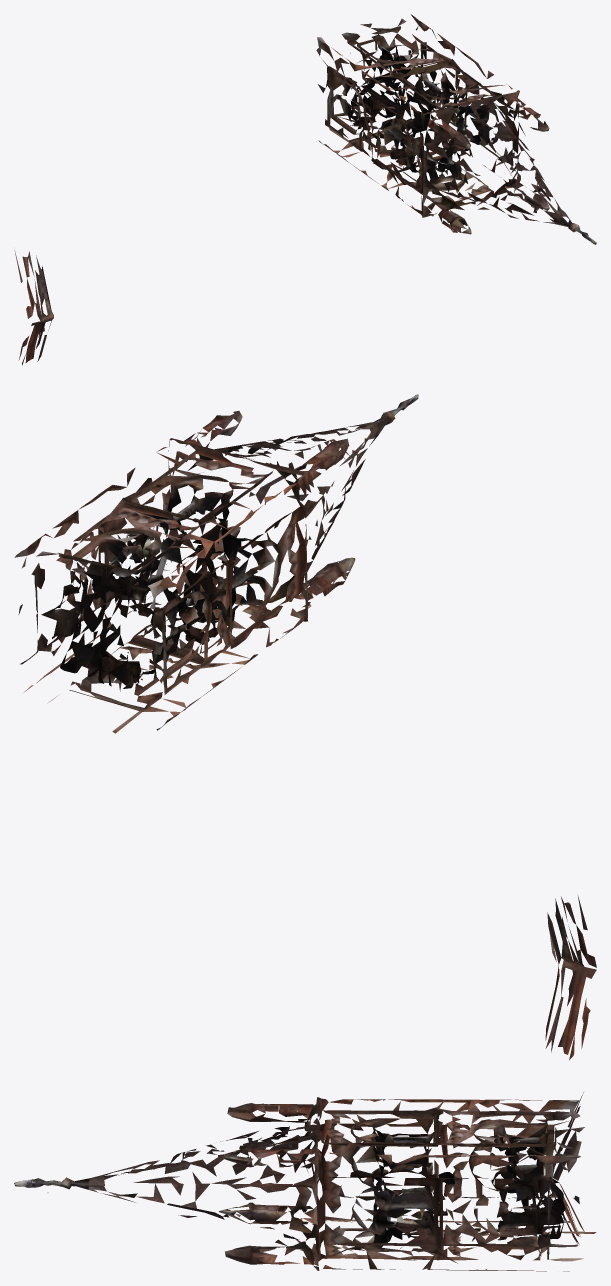
The picture shows the model from 3 angles, top to bottom: view 1: azimuth 30°, elevation 25°; view 2: azimuth 150°, elevation 25°; view 3: azimuth 270°, elevation 25°; orthographic projection. The views are drawn at different scales.
Bounding box in the file's own units: 16.4 × 10.32 × 17.26.
Materials: 1 (1 with a texture image).
